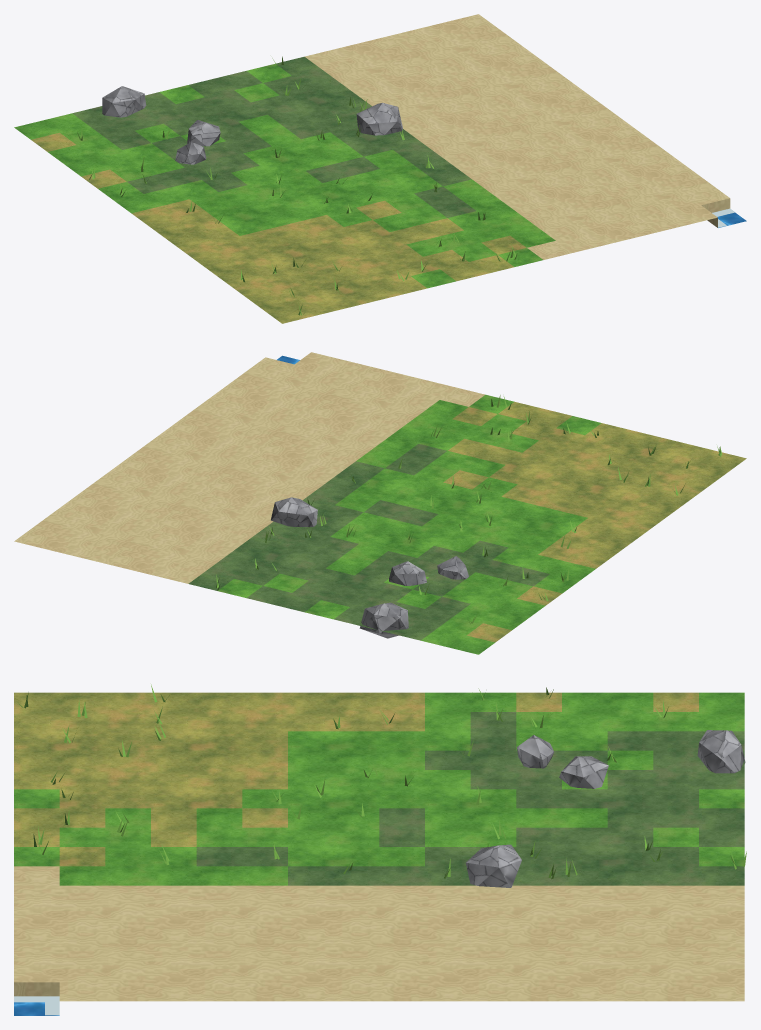
The model's file is chunk_11_3.glb.
The picture shows the model from 3 angles, top to bottom: view 1: azimuth 30°, elevation 25°; view 2: azimuth 150°, elevation 25°; view 3: azimuth 270°, elevation 25°; orthographic projection. The views are drawn at different scales.
Visible parts, largest first — view 1: chunk_11_3; view 2: chunk_11_3; view 3: chunk_11_3.
Part boxes in pixels (x1,y1,x2,y2): chunk_11_3: (14,14,746,323); chunk_11_3: (14,352,746,654); chunk_11_3: (14,684,746,1015).
Bounding box in the file's own units: 16 × 1.25 × 16.05.
8 materials, 6 textured.
